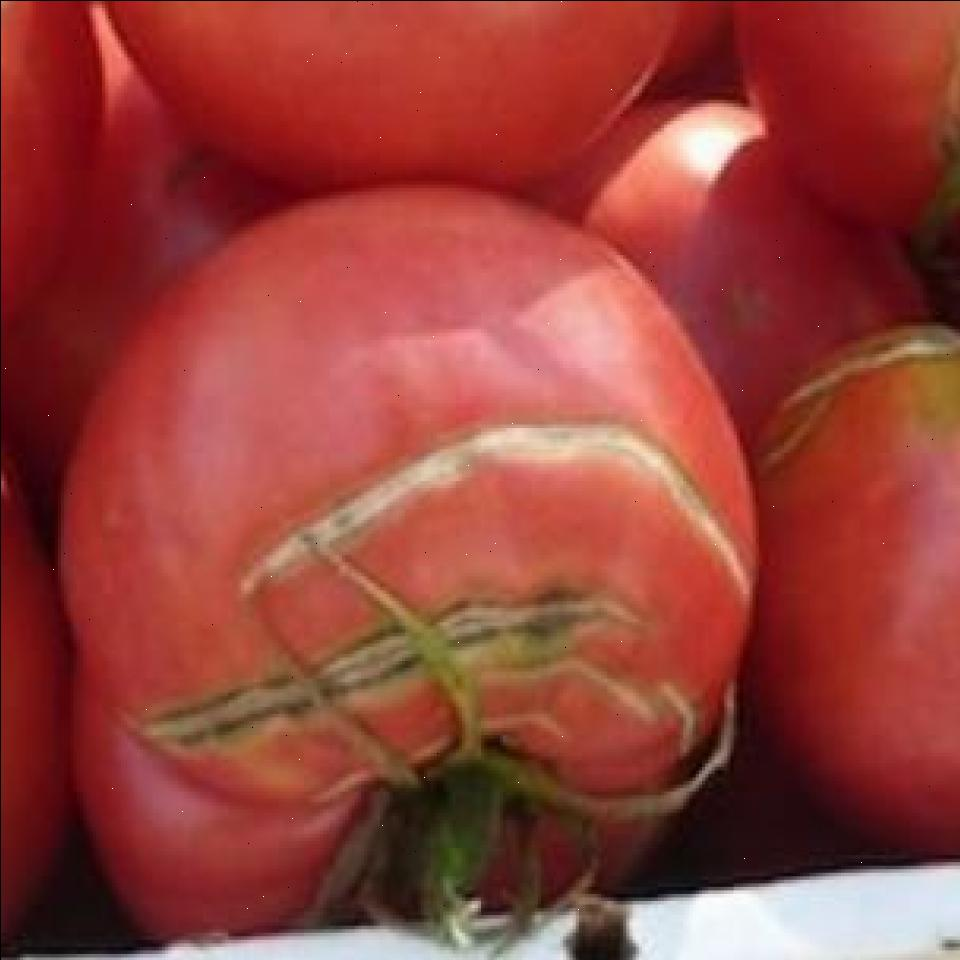Cracking: (193, 411, 789, 650), (132, 561, 666, 769), (346, 684, 764, 818), (1, 0, 114, 349), (755, 301, 960, 485), (0, 455, 70, 945)
